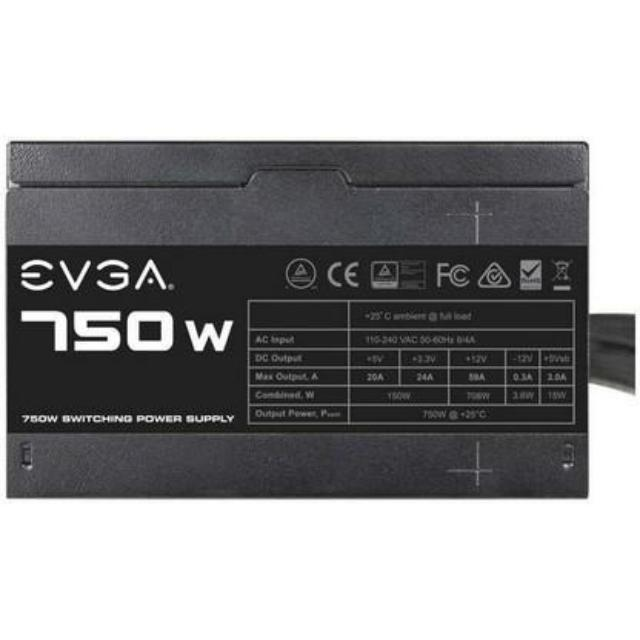PSU: (0, 133, 597, 502)
